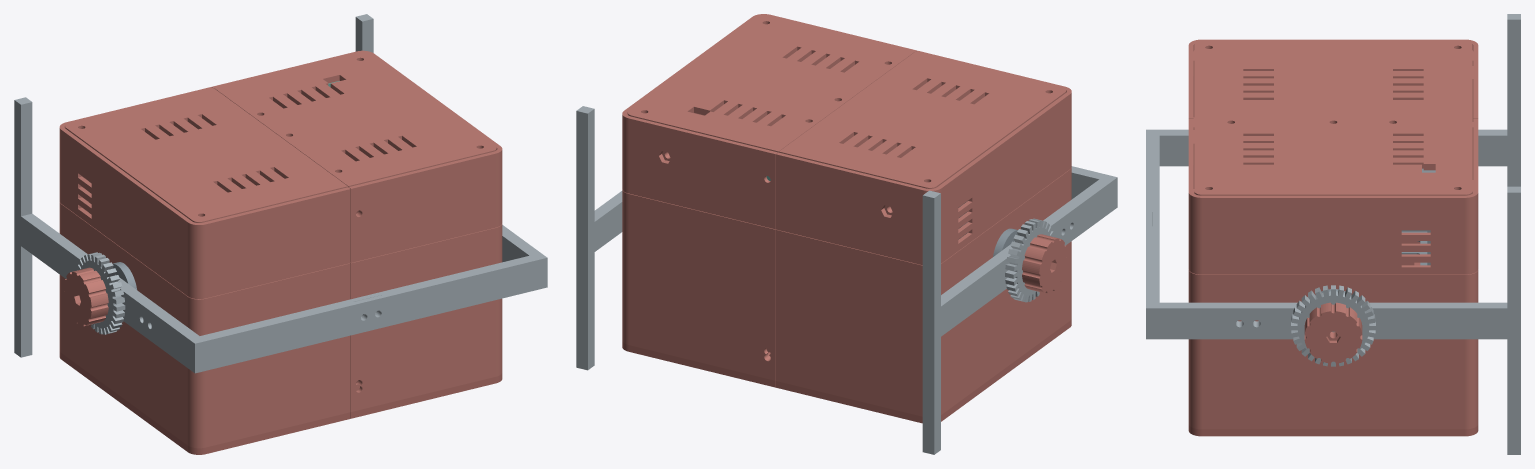
Rendered from assembly.glb.
3 renders of one model, left to right at view 1: azimuth 30°, elevation 25°; view 2: azimuth 150°, elevation 25°; view 3: azimuth 270°, elevation 25°, orthographic. The views are drawn at different scales.
Parts seen in each view (by area): view 1: 01_shell_left_front, 01_shell_left_rear, 05_door_left, 06_door_right, 02_shell_right_front, 02_shell_right_rear, 11_yoke_upper_left, 12_yoke_upper_right, 09_yoke_lower_left, 03_bezel_left, knob_left, gear_left (+2 smaller); view 2: 01_shell_left_front, 02_shell_right_front, 01_shell_left_rear, 05_door_left, 06_door_right, 02_shell_right_rear, 09_yoke_lower_left, 10_yoke_lower_right, 11_yoke_upper_left, knob_left, 03_bezel_left, gear_left (+1 smaller); view 3: 02_shell_right_front, 02_shell_right_rear, 06_door_right, 05_door_left, 10_yoke_lower_right, 12_yoke_upper_right, 09_yoke_lower_left, knob_right, gear_right, 11_yoke_upper_left, 04_bezel_right, 01_shell_left_rear.
Part boxes in pixels (<box>): 01_shell_left_front: <box>59,197,359,448</box>; 01_shell_left_rear: <box>59,87,359,298</box>; 05_door_left: <box>65,88,347,222</box>; 06_door_right: <box>214,52,496,187</box>; 02_shell_right_front: <box>350,224,502,411</box>; 02_shell_right_rear: <box>212,50,502,262</box>; 11_yoke_upper_left: <box>137,292,381,373</box>; 12_yoke_upper_right: <box>354,225,547,333</box>; 09_yoke_lower_left: <box>14,97,164,357</box>; 03_bezel_left: <box>59,351,350,454</box>; knob_left: <box>64,267,108,326</box>; gear_left: <box>77,252,125,334</box>; 01_shell_left_front: <box>766,168,1071,416</box>; 02_shell_right_front: <box>622,190,775,380</box>; 01_shell_left_rear: <box>776,51,1071,264</box>; 05_door_left: <box>779,52,1065,188</box>; 06_door_right: <box>628,15,914,152</box>; 02_shell_right_rear: <box>622,14,916,229</box>; 09_yoke_lower_left: <box>922,190,1069,454</box>; 10_yoke_lower_right: <box>576,106,622,370</box>; 11_yoke_upper_left: <box>1054,166,1117,245</box>; knob_left: <box>1022,234,1067,293</box>; 03_bezel_left: <box>776,319,1071,423</box>; gear_left: <box>1005,218,1054,302</box>; 02_shell_right_front: <box>1188,270,1478,429</box>; 02_shell_right_rear: <box>1188,119,1478,274</box>; 06_door_right: <box>1194,118,1472,195</box>; 05_door_left: <box>1194,41,1472,117</box>; 10_yoke_lower_right: <box>1231,186,1520,454</box>; 12_yoke_upper_right: <box>1146,212,1265,339</box>; 09_yoke_lower_left: <box>1478,14,1520,186</box>; knob_right: <box>1304,302,1362,363</box>; gear_right: <box>1291,285,1375,366</box>; 11_yoke_upper_left: <box>1146,129,1188,226</box>; 04_bezel_right: <box>1188,424,1478,436</box>; 01_shell_left_rear: <box>1188,39,1478,164</box>.
Bounding box in the file's own units: 0.286 × 0.17 × 0.22.
